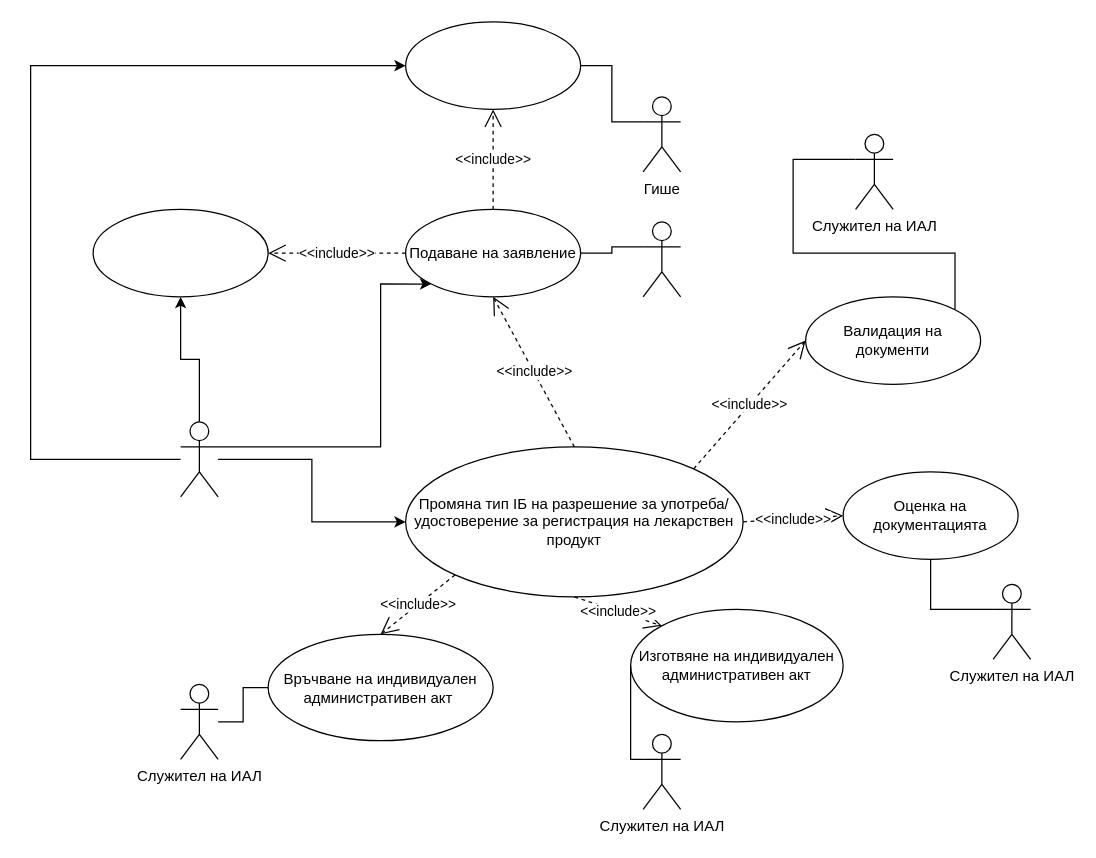
The diagram is 1096 pixels wide and 858 high, and some of its shapes have lost their labels. Here are the shapes that lost their labels. From the top down, the box of each, then its label:
(404, 21, 581, 109): Заплащане на такса
(92, 208, 268, 297): Подготвяне на необходими документи
(642, 221, 681, 297): Деловодство на ИАЛ
(179, 421, 218, 497): Подател на заявление
